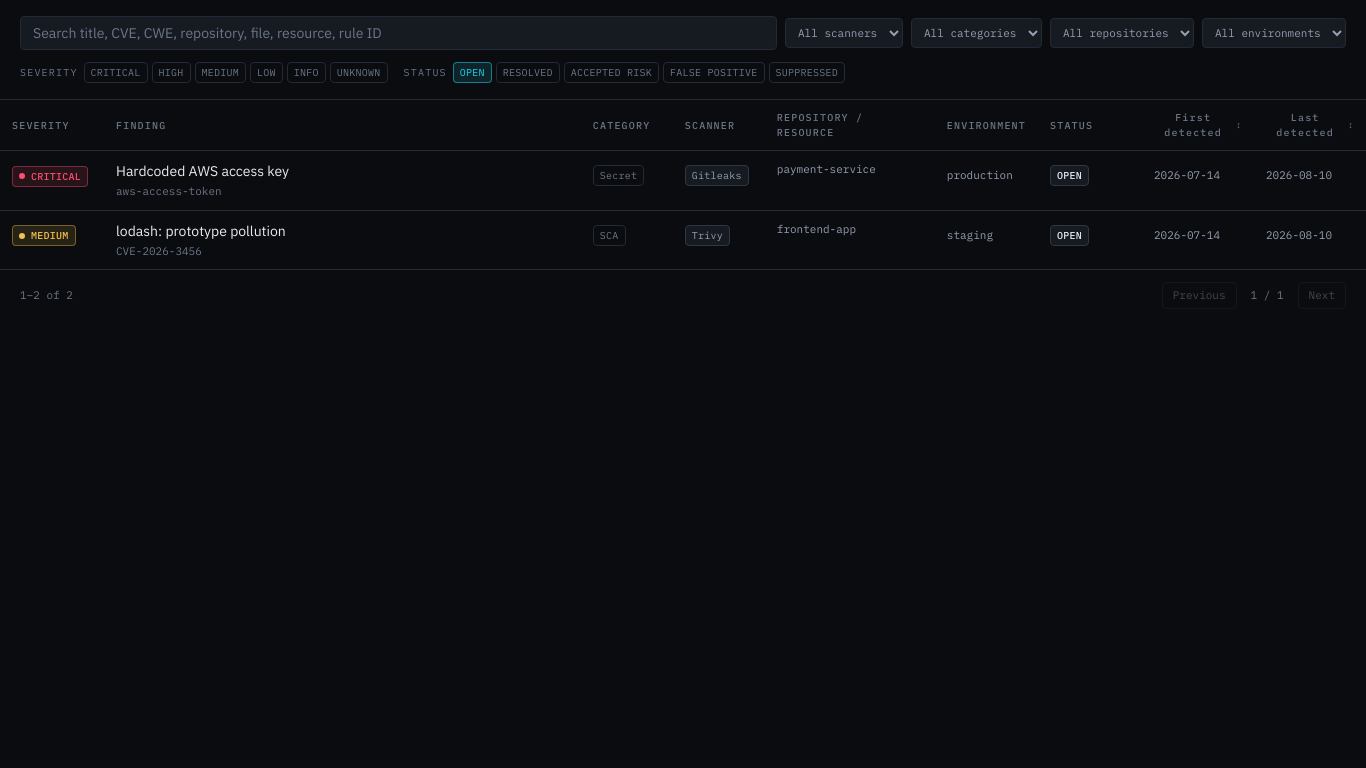
FindingsTable detail drawer › states plainly when the scanner supplied no remediation
This screenshot has width=1366, height=768.
What coordinates should you click on to do the following:
click the text "Hardcoded AWS access key"
I would click on:
 (203, 171)
Its box is x1=116 y1=162 x2=289 y2=180.
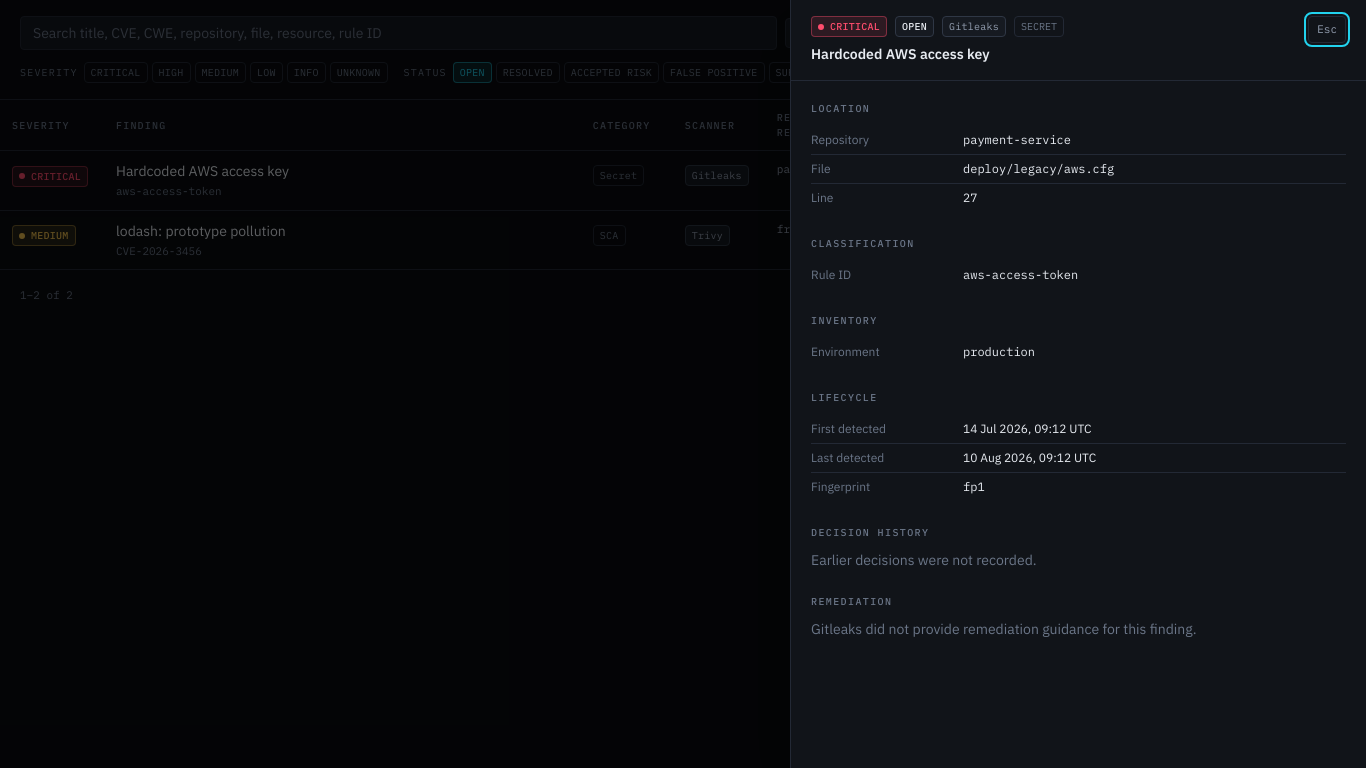
Expected: the text "Gitleaks did not provide remediation guidance" is shown, x1=811 y1=620 x2=1197 y2=638
